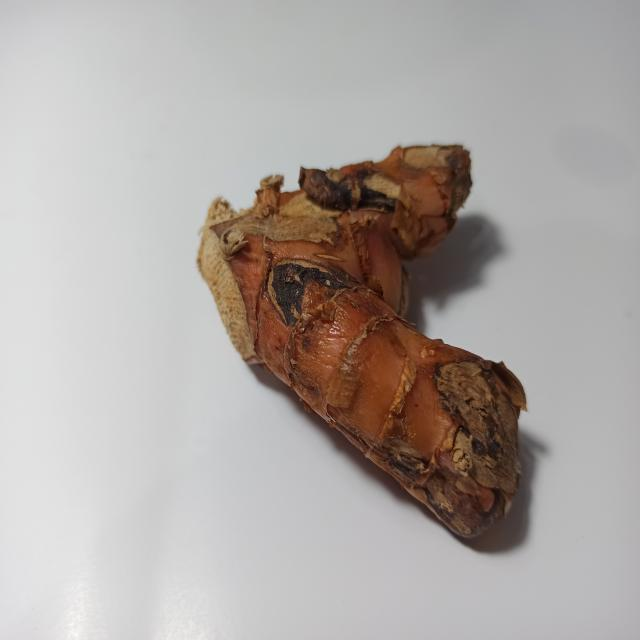ginger: (202, 124, 521, 503)
